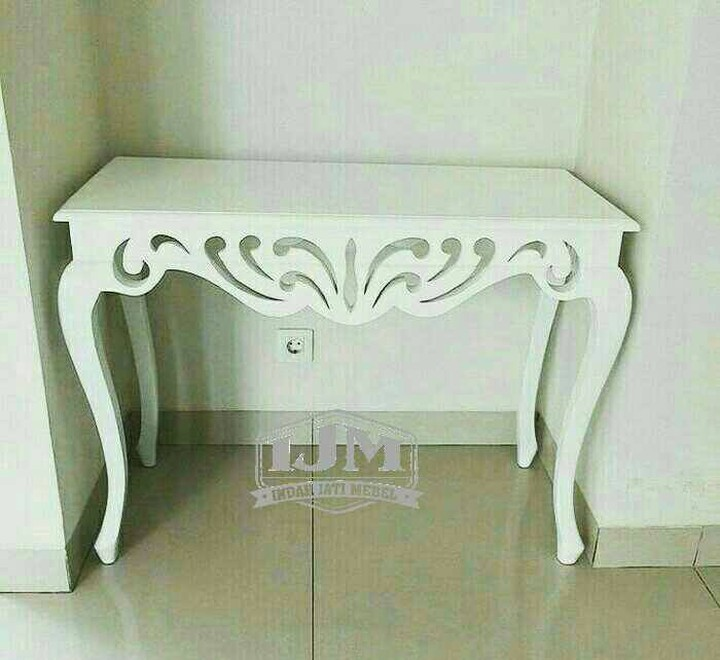Carving Table: (58, 133, 634, 597)
